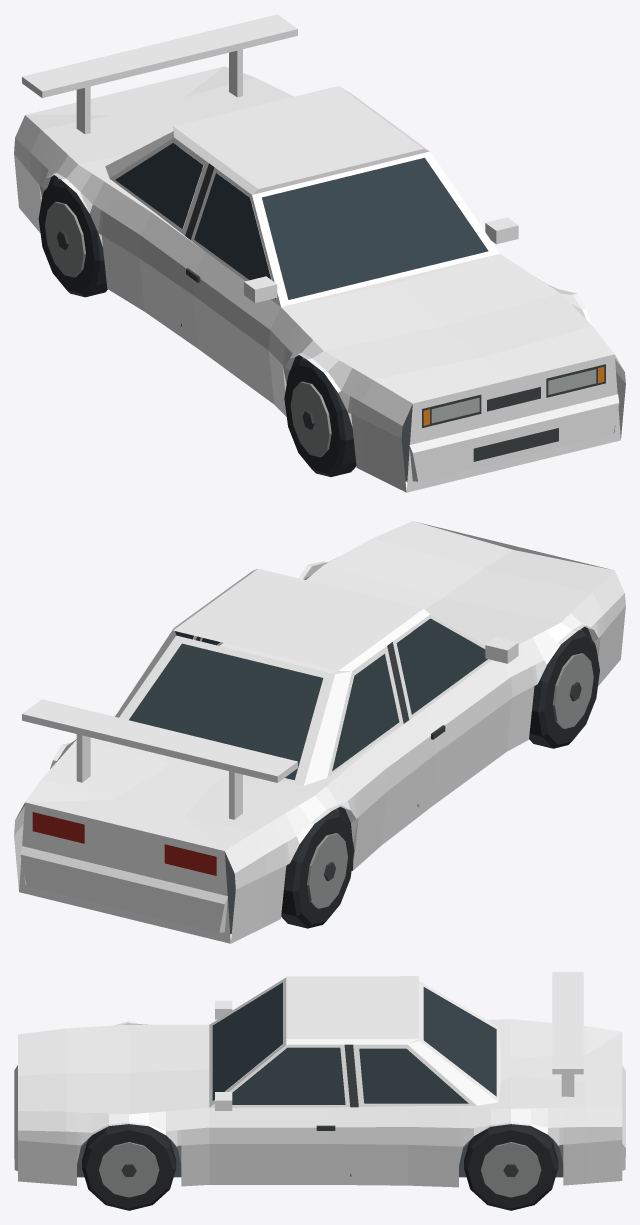
The model's file is sanga_akatsuki_corrida.glb.
3 renders of one model, top to bottom at view 1: azimuth 30°, elevation 25°; view 2: azimuth 150°, elevation 25°; view 3: azimuth 270°, elevation 25°, orthographic. The views are drawn at different scales.
Visible parts, largest first — view 1: sanga_akatsuki_corrida; view 2: sanga_akatsuki_corrida; view 3: sanga_akatsuki_corrida.
Part boxes in pixels (left/top/right/bottom): sanga_akatsuki_corrida: left=14, top=14, right=625, bottom=492; sanga_akatsuki_corrida: left=14, top=521, right=625, bottom=943; sanga_akatsuki_corrida: left=14, top=972, right=625, bottom=1210.
Bounding box in the file's own units: 1.69 × 1.19 × 4.26.
Materials: 8 (1 with a texture image).
